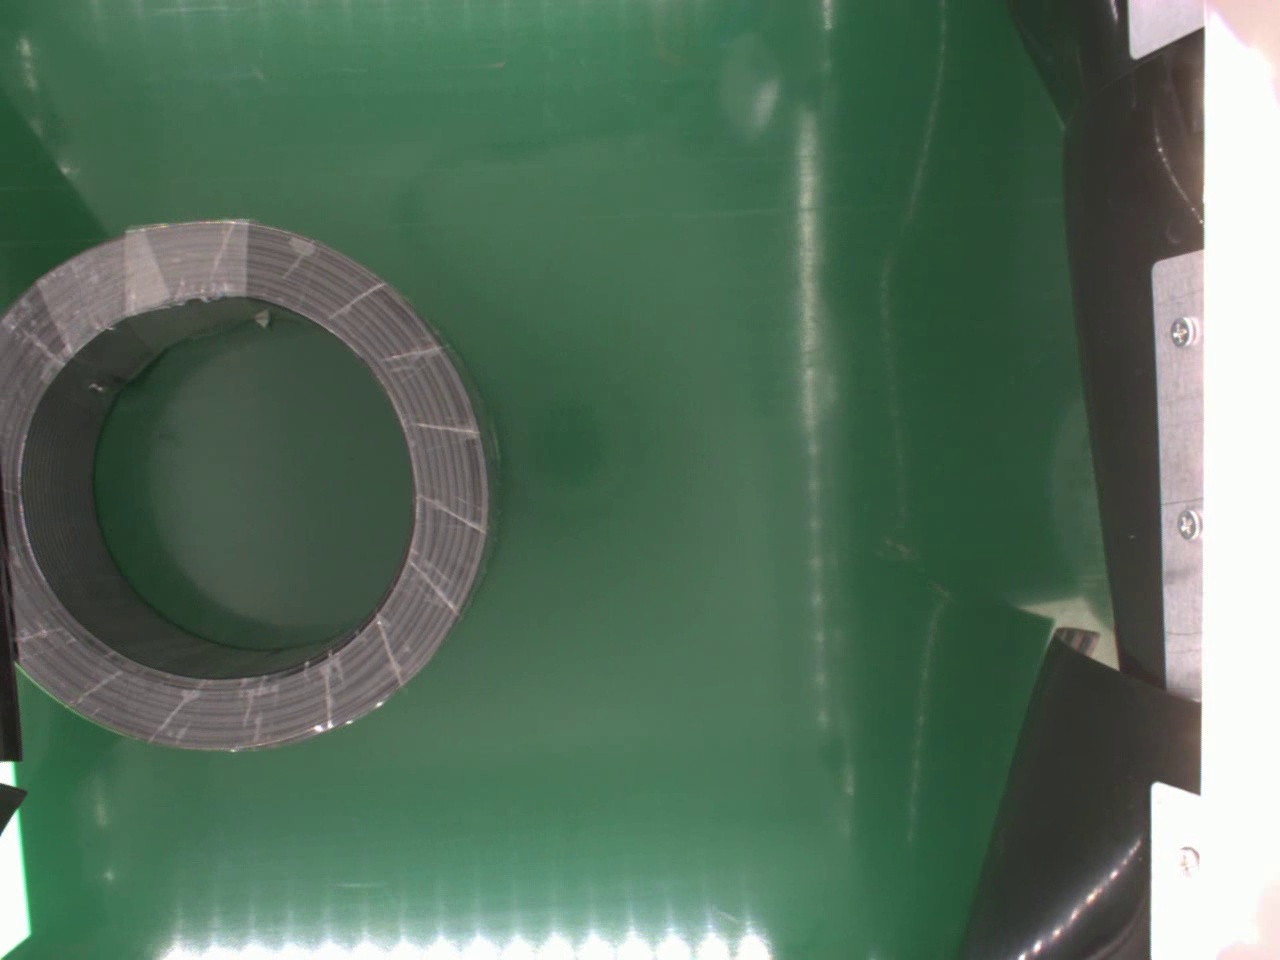black: (0, 213, 508, 754)
